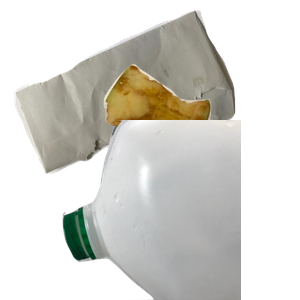glass: (86, 120, 277, 300)
paper: (12, 10, 240, 176)
plastic: (60, 120, 300, 300)
trash: (101, 62, 300, 217)
